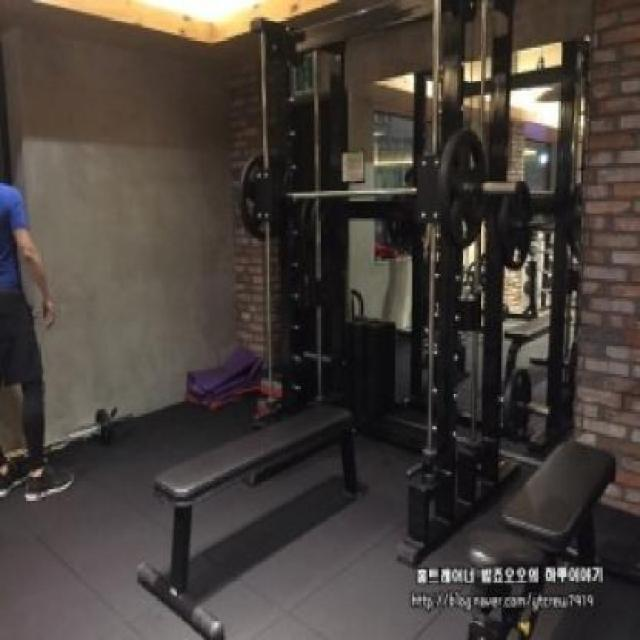smith machine: (242, 0, 520, 566)
